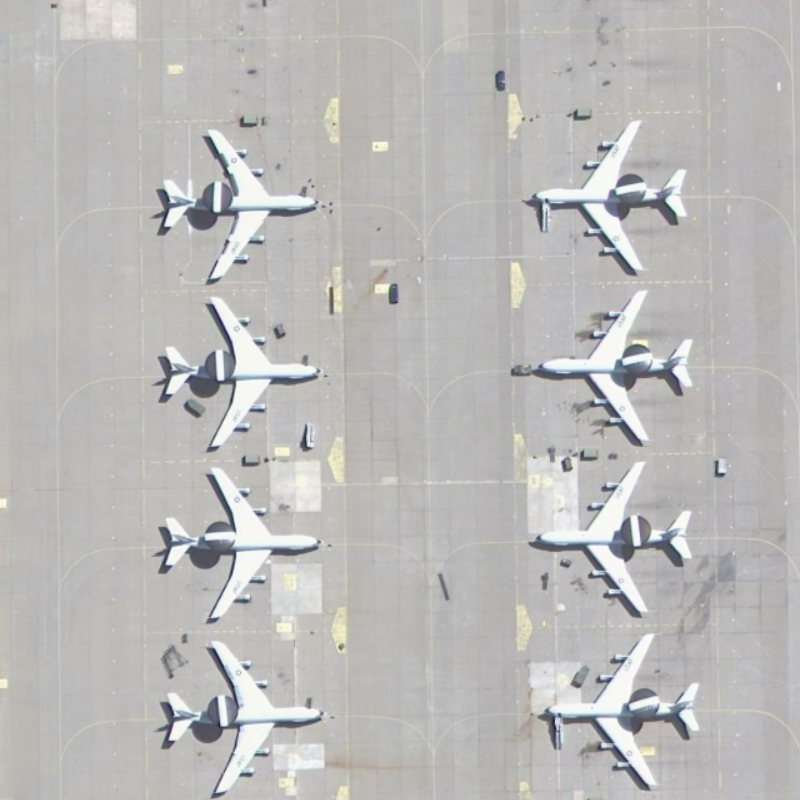A7: (156, 629, 331, 800), (527, 453, 702, 623), (150, 122, 327, 290), (155, 461, 330, 629), (537, 624, 709, 794), (530, 283, 704, 451), (525, 112, 687, 281), (159, 292, 323, 455)
